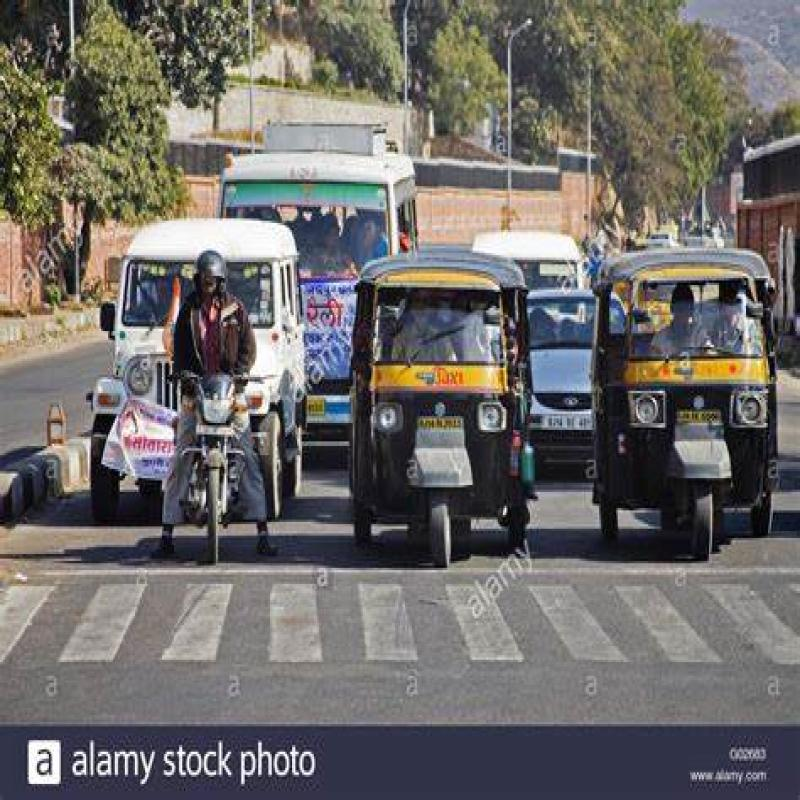car: (107, 209, 311, 504)
